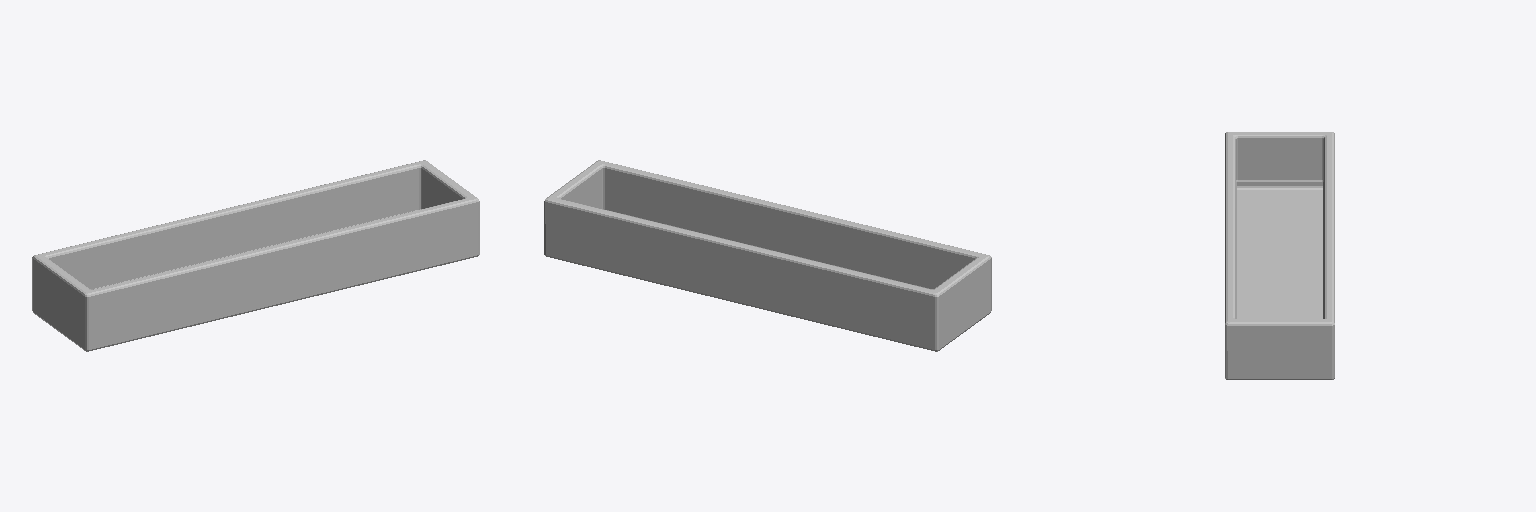
Rendered from BAK TANEMAN 2.obj.
The picture shows the model from 3 angles: view 1: azimuth 30°, elevation 25°; view 2: azimuth 150°, elevation 25°; view 3: azimuth 270°, elevation 25°; orthographic projection.
Visible parts, largest first — view 1: pCube91; view 2: pCube91; view 3: pCube91.
Boxes of the visible parts, box(x1,y1,x2,y2) form: pCube91: box(32, 160, 479, 351); pCube91: box(544, 160, 991, 351); pCube91: box(1225, 132, 1334, 379).
Size of the model in its own units: 5.81 by 0.815 by 1.4.